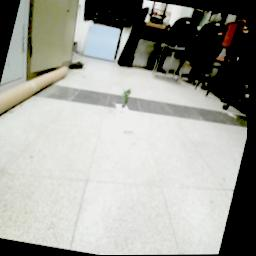herb: (122, 89, 135, 111)
